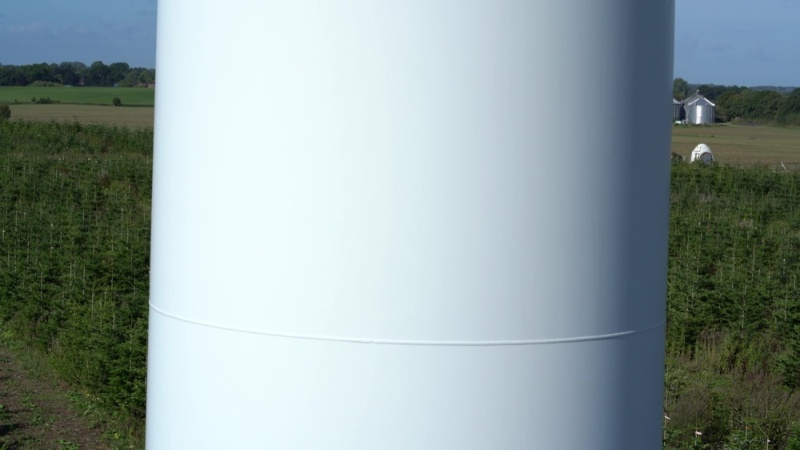weldseam: (147, 296, 667, 352)
